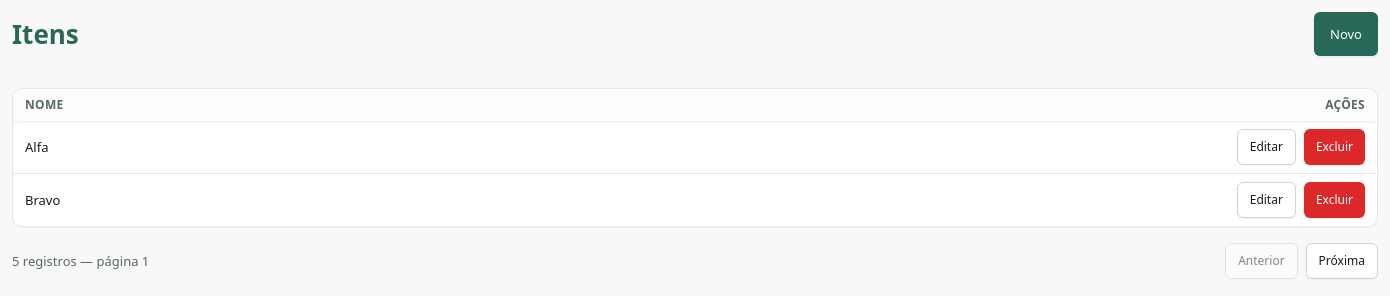
Test: CrudPage — paginação › Anterior volta à página anterior e é desabilitado na página 1
expect the text "Alfa" is shown: met, box [13,121,410,174]
expect the button "Anterior" is disabled: met, box [1225,243,1298,279]
What coordinates should you click on to do the following:
click the button "Próxima"
I would click on:
 (1342, 261)
Its box is [1306,243,1378,279].
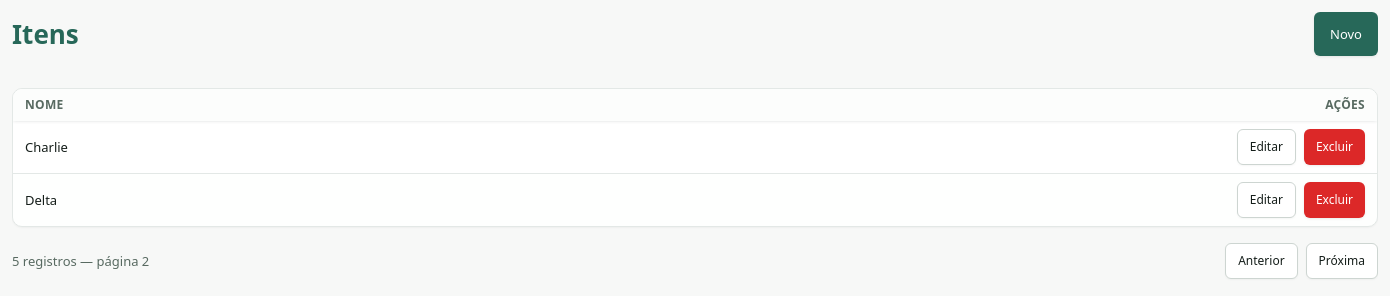
expect the text "Charlie" is shown: met, box [13,121,430,174]
What coordinates should you click on to do the following:
click the button "Anterior"
I would click on:
 (1261, 261)
Its box is [1225,243,1298,279].
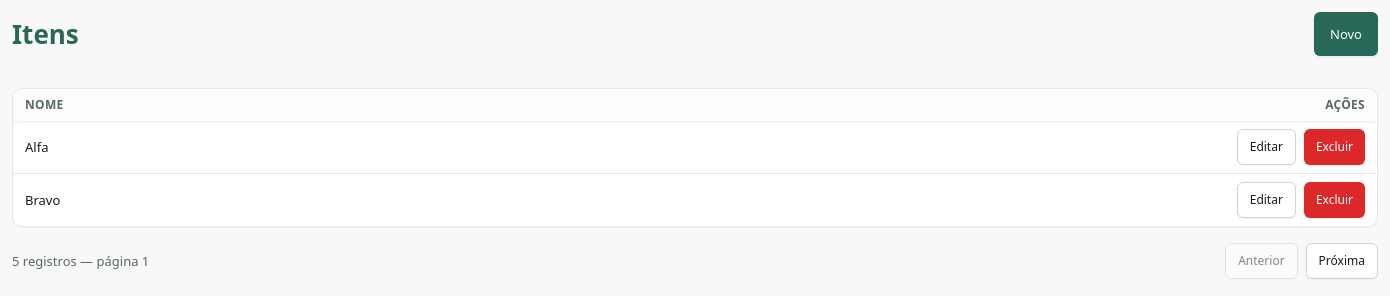
expect the text "Alfa" is shown: met, box [13,121,410,174]
expect the button "Anterior" is disabled: met, box [1225,243,1298,279]
